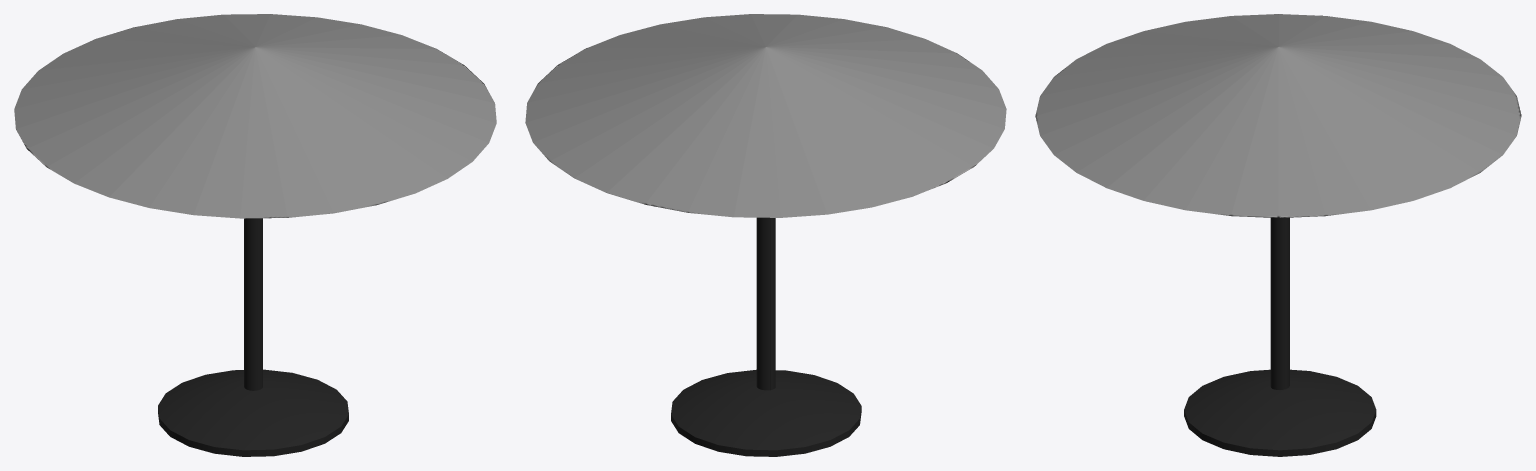
File: palapa.obj
3 renders of one model, left to right at view 1: azimuth 30°, elevation 25°; view 2: azimuth 150°, elevation 25°; view 3: azimuth 270°, elevation 25°, orthographic.
Visible parts, largest first — view 1: Cone_Material.003; view 2: Cone_Material.003; view 3: Cone_Material.003.
Boxes of the visible parts, bbox=[...] form: Cone_Material.003: bbox=[14, 14, 496, 456]; Cone_Material.003: bbox=[525, 14, 1006, 456]; Cone_Material.003: bbox=[1035, 14, 1521, 456].
Bounding box in the file's own units: 10.05 × 8.49 × 10.11.
Materials: 1 (1 with a texture image).
